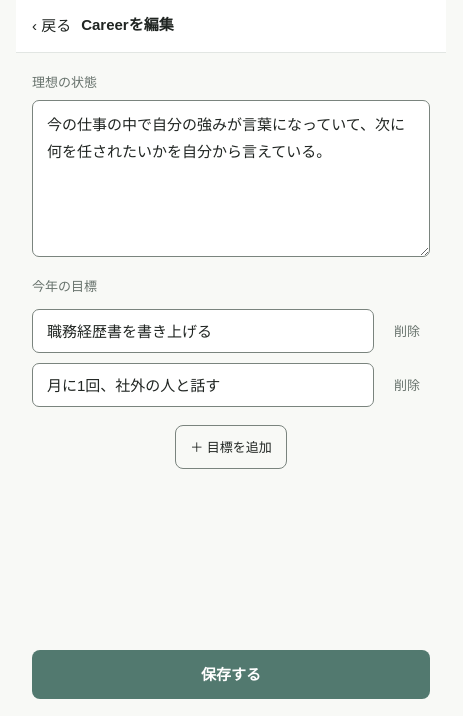
it: S-58 › 「削除」で目標欄を1つ減らせる
Click the 2nd button with class "s58__remove" at (407, 385), box [384,363,430,407]
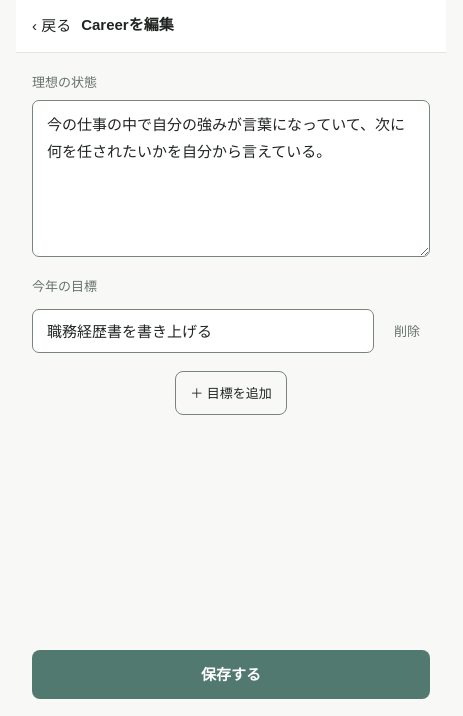
Check: the field with class "s58__input" holds "職務経歴書を書き上げる", box [32,309,374,353]
Check: the number of fields with class "s58__input" is 1, box [32,309,374,353]
